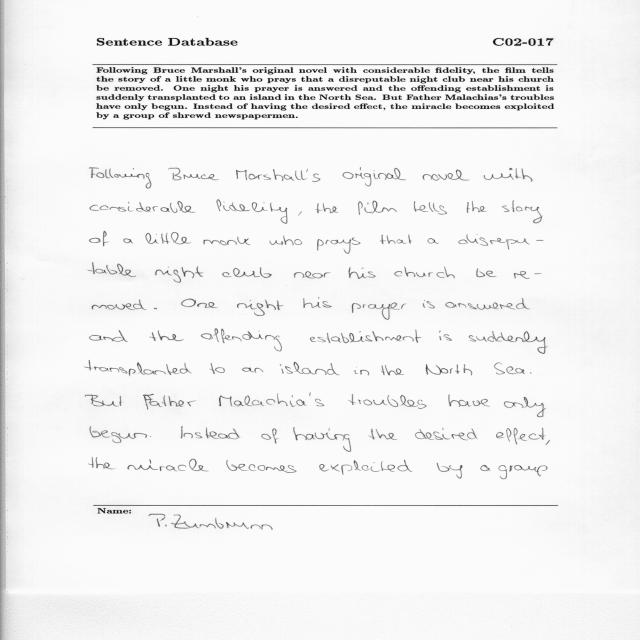word: (201, 329, 282, 352), (468, 331, 548, 354), (216, 200, 288, 224), (85, 360, 192, 376), (310, 330, 422, 344), (219, 393, 324, 407), (293, 427, 351, 452), (319, 460, 413, 475), (459, 234, 544, 250), (90, 168, 151, 189), (90, 201, 196, 213), (343, 168, 407, 187), (348, 394, 427, 409), (236, 169, 320, 182), (127, 459, 209, 472), (445, 298, 530, 310), (352, 302, 406, 320), (90, 426, 147, 443), (502, 200, 543, 223), (226, 460, 297, 473), (496, 428, 546, 445), (504, 397, 545, 417), (155, 266, 203, 283), (143, 394, 196, 409), (280, 362, 340, 375), (181, 427, 240, 440), (317, 237, 361, 254), (415, 428, 477, 440), (237, 300, 283, 316), (394, 267, 455, 279), (498, 465, 548, 479), (484, 168, 533, 182), (88, 263, 136, 277), (168, 168, 219, 181), (93, 299, 147, 310), (358, 200, 397, 215), (145, 232, 191, 244), (222, 267, 272, 278), (448, 394, 490, 407), (423, 170, 470, 181), (426, 364, 472, 375), (89, 330, 128, 342), (85, 395, 122, 407), (413, 202, 447, 215), (204, 237, 251, 246), (437, 463, 463, 479), (150, 330, 184, 341), (494, 363, 525, 375), (181, 298, 218, 308), (270, 236, 303, 246), (349, 267, 376, 279), (380, 234, 412, 244), (303, 297, 332, 308), (369, 429, 398, 440), (89, 458, 115, 470), (90, 231, 109, 246), (261, 429, 279, 444), (294, 272, 331, 279), (466, 201, 487, 213), (315, 203, 338, 213), (381, 365, 404, 375), (514, 271, 541, 279), (476, 268, 497, 277), (210, 363, 225, 374), (439, 330, 452, 341), (354, 367, 369, 375), (242, 368, 263, 373), (423, 300, 435, 308), (427, 238, 439, 244), (480, 465, 491, 471), (123, 239, 134, 244), (298, 211, 302, 216), (546, 440, 550, 445), (530, 372, 532, 374), (154, 308, 157, 309), (150, 436, 151, 437)
